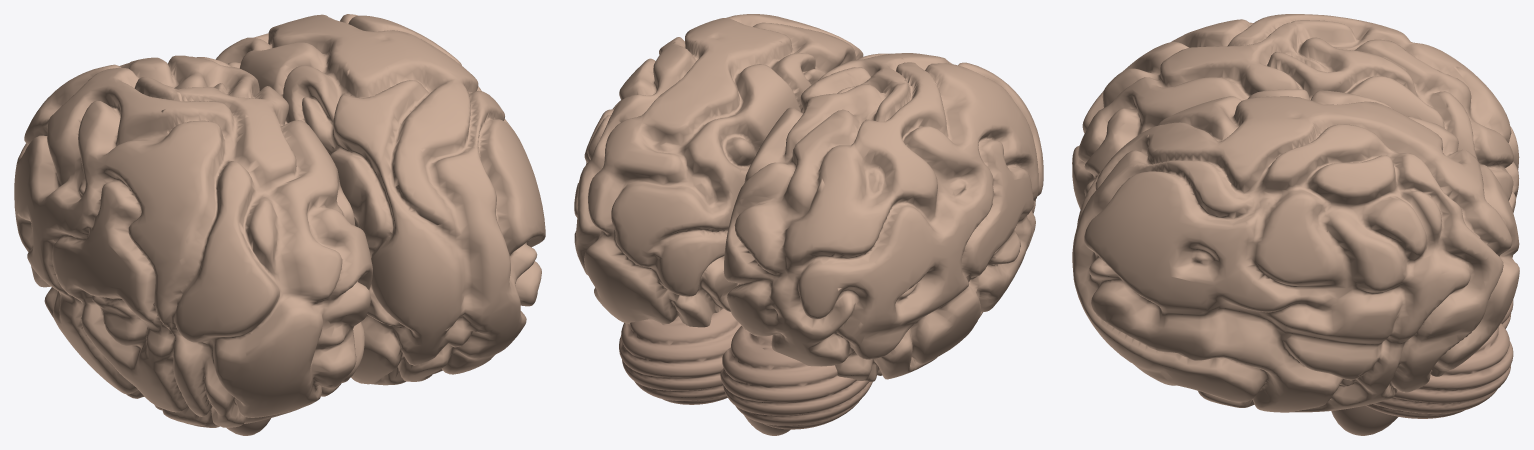
The model's file is brain.glb.
The picture shows the model from 3 angles, left to right: view 1: azimuth 30°, elevation 25°; view 2: azimuth 150°, elevation 25°; view 3: azimuth 270°, elevation 25°; orthographic projection. The views are drawn at different scales.
Parts seen in each view (by area): view 1: Brain.Left, Brain.Right; view 2: Brain.Left, Brain.Right, Cerebellum.Left, Cerebellum.Right; view 3: Brain.Right, Brain.Left, Cerebellum.Right, Brainstem.
Boxes of the visible parts, x1,y1,x2,y2 form: Brain.Left: [14, 55, 372, 427]; Brain.Right: [216, 14, 545, 385]; Brain.Left: [723, 53, 1043, 381]; Brain.Right: [574, 14, 863, 327]; Cerebellum.Left: [720, 326, 872, 429]; Cerebellum.Right: [619, 308, 741, 404]; Brain.Right: [1072, 89, 1519, 412]; Brain.Left: [1072, 14, 1519, 212]; Cerebellum.Right: [1365, 323, 1513, 418]; Brainstem: [1331, 405, 1398, 435].
Bounding box in the file's own units: 2.27 × 2.06 × 2.29.
